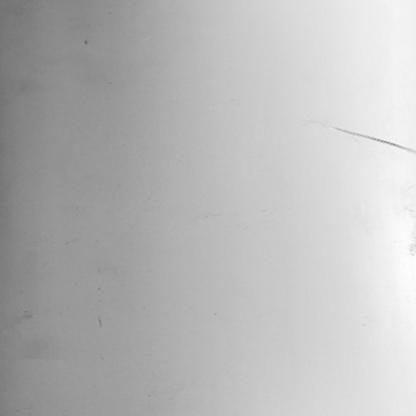sunshang: (318, 123, 416, 157)
